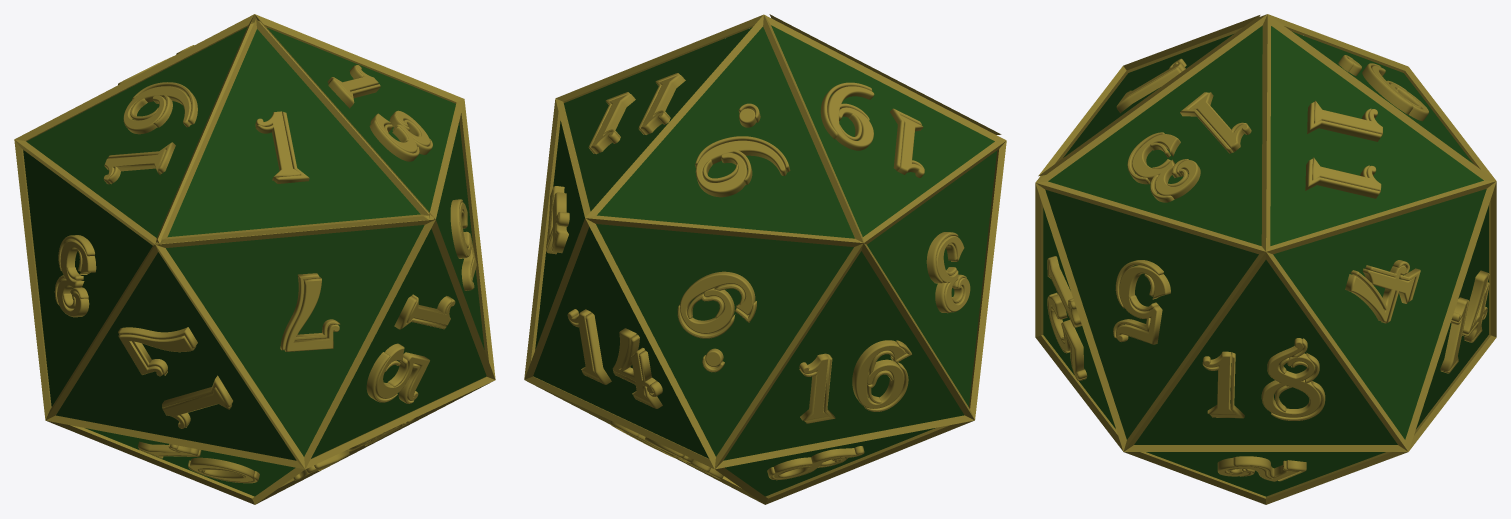
File: D20 Icosahedron simple colours.fbx
3 views of the same model, side by side, from view 1: azimuth 30°, elevation 25°; view 2: azimuth 150°, elevation 25°; view 3: azimuth 270°, elevation 25° (orthographic).
Visible parts, largest first — view 1: Icosphere, Icosphere.001, Text.002, Text.012, Text.013, Text.001, Text.014, Text.003, Text.019, Text, Text.011, Text.018; view 2: Icosphere, Icosphere.001, Text.015, Text.002, Text.017, Text.004, Text.008, Text.005, Text.014, Text.016, Text.006, Text.009; view 3: Icosphere, Icosphere.001, Text.007, Text.001, Text.005, Text.011, Text.006, Text.012, Text.008, Text.004, Text.010, Text.
Part boxes in pixels (x1=…): Icosphere: x1=23, y1=27, x2=486, y2=496; Icosphere.001: x1=14, y1=14, x2=495, y2=504; Text.002: x1=103, y1=82, x2=197, y2=184; Text.012: x1=366, y1=294, x2=455, y2=403; Text.013: x1=118, y1=327, x2=232, y2=428; Text.001: x1=327, y1=65, x2=432, y2=161; Text.014: x1=54, y1=235, x2=96, y2=317; Text.003: x1=280, y1=273, x2=340, y2=351; Text.019: x1=138, y1=441, x2=259, y2=483; Text: x1=255, y1=111, x2=309, y2=183; Text.011: x1=450, y1=199, x2=476, y2=290; Text.018: x1=293, y1=418, x2=415, y2=480; Icosphere: x1=533, y1=25, x2=997, y2=496; Icosphere.001: x1=524, y1=14, x2=1006, y2=504; Text.015: x1=799, y1=340, x2=912, y2=423; Text.002: x1=820, y1=82, x2=924, y2=177; Text.017: x1=677, y1=271, x2=756, y2=372; Text.004: x1=695, y1=103, x2=790, y2=197; Text.008: x1=567, y1=309, x2=662, y2=408; Text.005: x1=588, y1=73, x2=685, y2=154; Text.014: x1=926, y1=232, x2=970, y2=313; Text.016: x1=767, y1=446, x2=864, y2=480; Text.006: x1=546, y1=186, x2=569, y2=254; Text.009: x1=610, y1=421, x2=723, y2=479; Icosphere: x1=1043, y1=25, x2=1488, y2=496; Icosphere.001: x1=1035, y1=14, x2=1496, y2=504; Text.007: x1=1202, y1=338, x2=1325, y2=420; Text.001: x1=1127, y1=92, x2=1251, y2=202; Text.005: x1=1305, y1=100, x2=1382, y2=198; Text.011: x1=1113, y1=260, x2=1170, y2=344; Text.006: x1=1345, y1=260, x2=1420, y2=323; Text.012: x1=1047, y1=256, x2=1087, y2=380; Text.008: x1=1440, y1=270, x2=1489, y2=373; Text.004: x1=1338, y1=55, x2=1428, y2=121; Text.010: x1=1217, y1=456, x2=1306, y2=481; Text: x1=1116, y1=58, x2=1186, y2=113.
Bounding box in the file's own units: 185 × 207 × 176.
